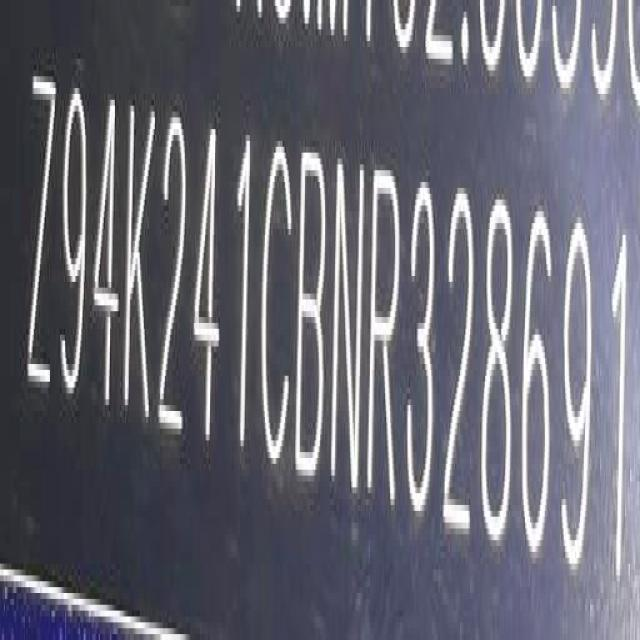1: (608, 222, 633, 588), (230, 125, 252, 469)
2: (158, 100, 190, 446), (446, 184, 477, 540)
3: (409, 172, 437, 528)
4: (193, 117, 223, 460), (94, 79, 123, 418)
6: (522, 200, 554, 572)
8: (484, 191, 514, 547)
9: (560, 214, 592, 580), (59, 74, 90, 412)
B: (298, 140, 329, 492)
C: (260, 131, 292, 482)
K: (122, 89, 154, 429)
N: (333, 151, 365, 503)
R: (370, 160, 400, 514)
Z: (24, 57, 56, 406)
